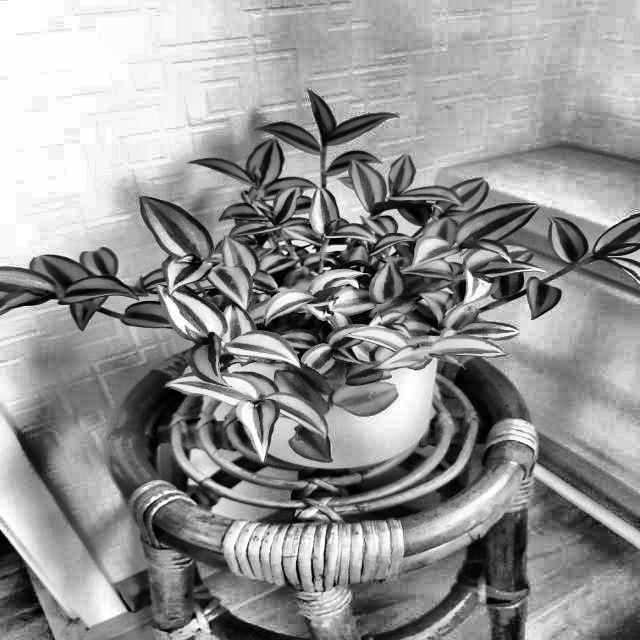plants: (0, 80, 640, 463)
